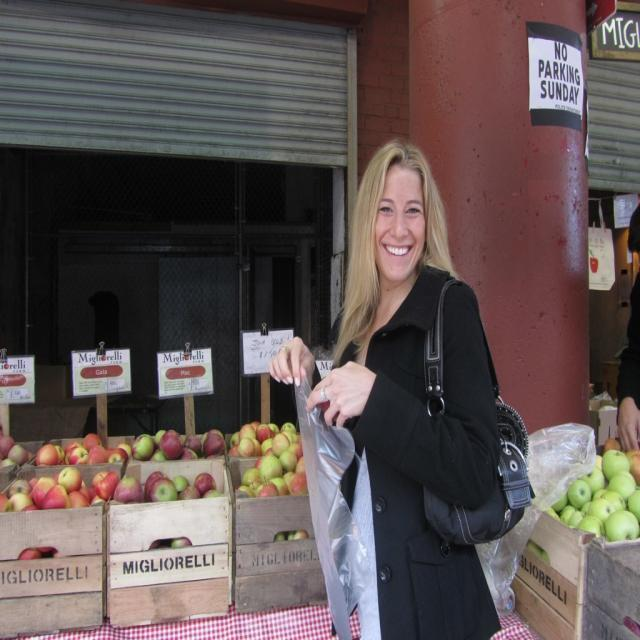Healty Apple: (540, 441, 640, 544), (227, 418, 309, 496), (0, 466, 121, 509), (113, 466, 230, 502), (34, 432, 129, 463), (128, 428, 225, 458), (0, 424, 31, 468), (55, 464, 82, 492), (624, 619, 639, 634), (18, 548, 39, 558), (170, 537, 192, 546), (294, 529, 309, 539), (528, 542, 538, 556), (39, 544, 53, 552), (148, 541, 164, 547), (274, 532, 284, 541), (540, 552, 547, 562), (54, 548, 60, 557), (287, 531, 294, 537)
